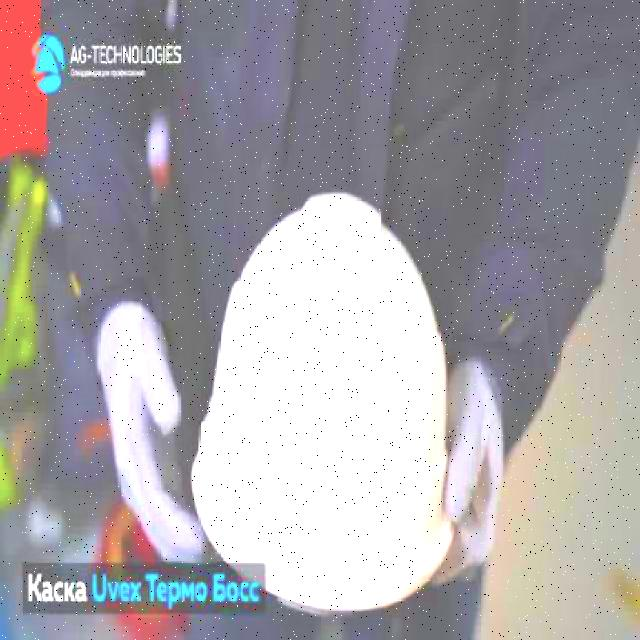Gloves: (95, 296, 223, 570), (442, 358, 507, 586)
Helmet: (190, 192, 456, 616)
